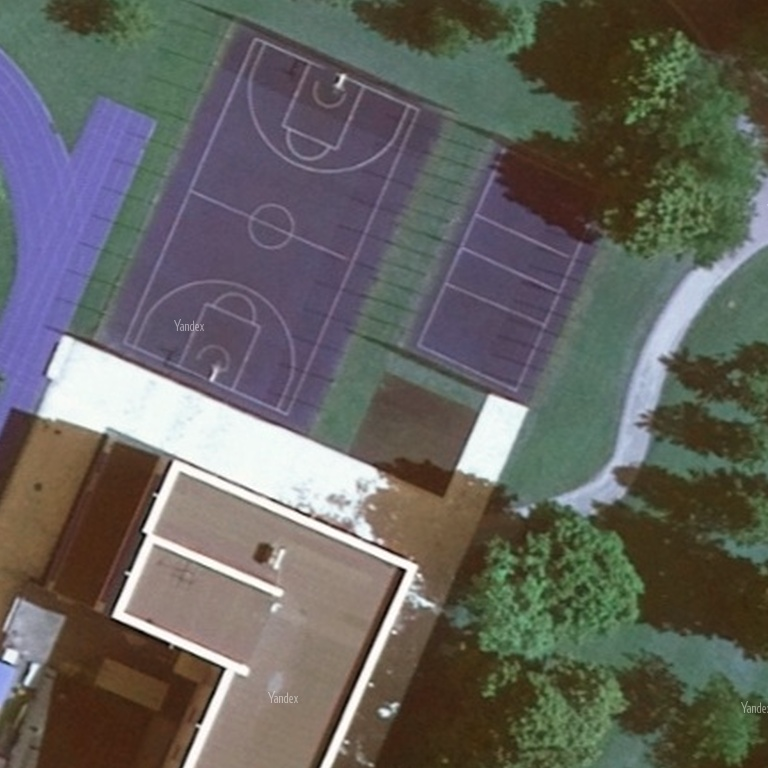basket_court: (82, 22, 444, 443)
